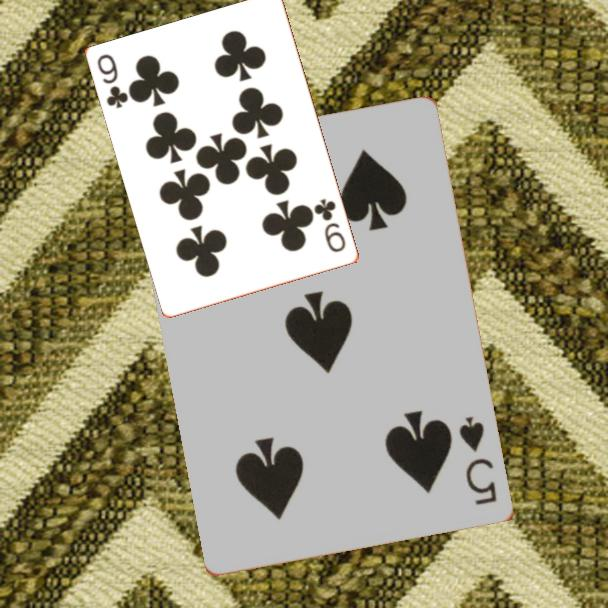c09: (94, 51, 132, 112), (311, 195, 349, 255)
s05: (456, 413, 500, 509)
